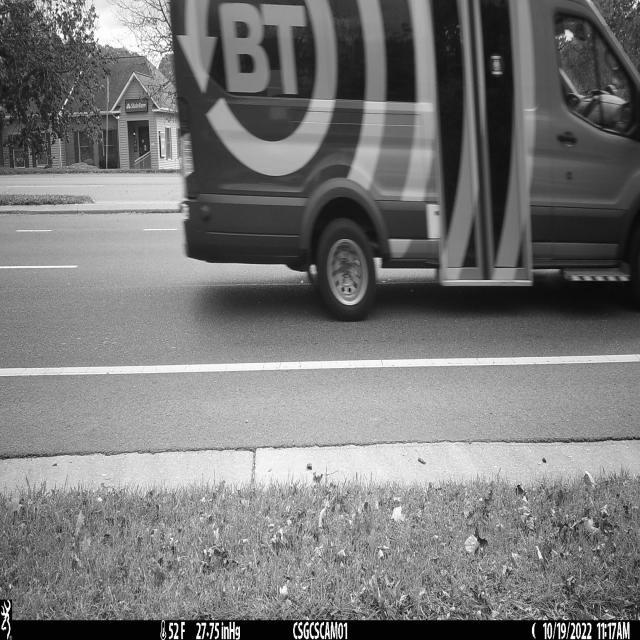Bus- Small: (167, 0, 640, 324)
